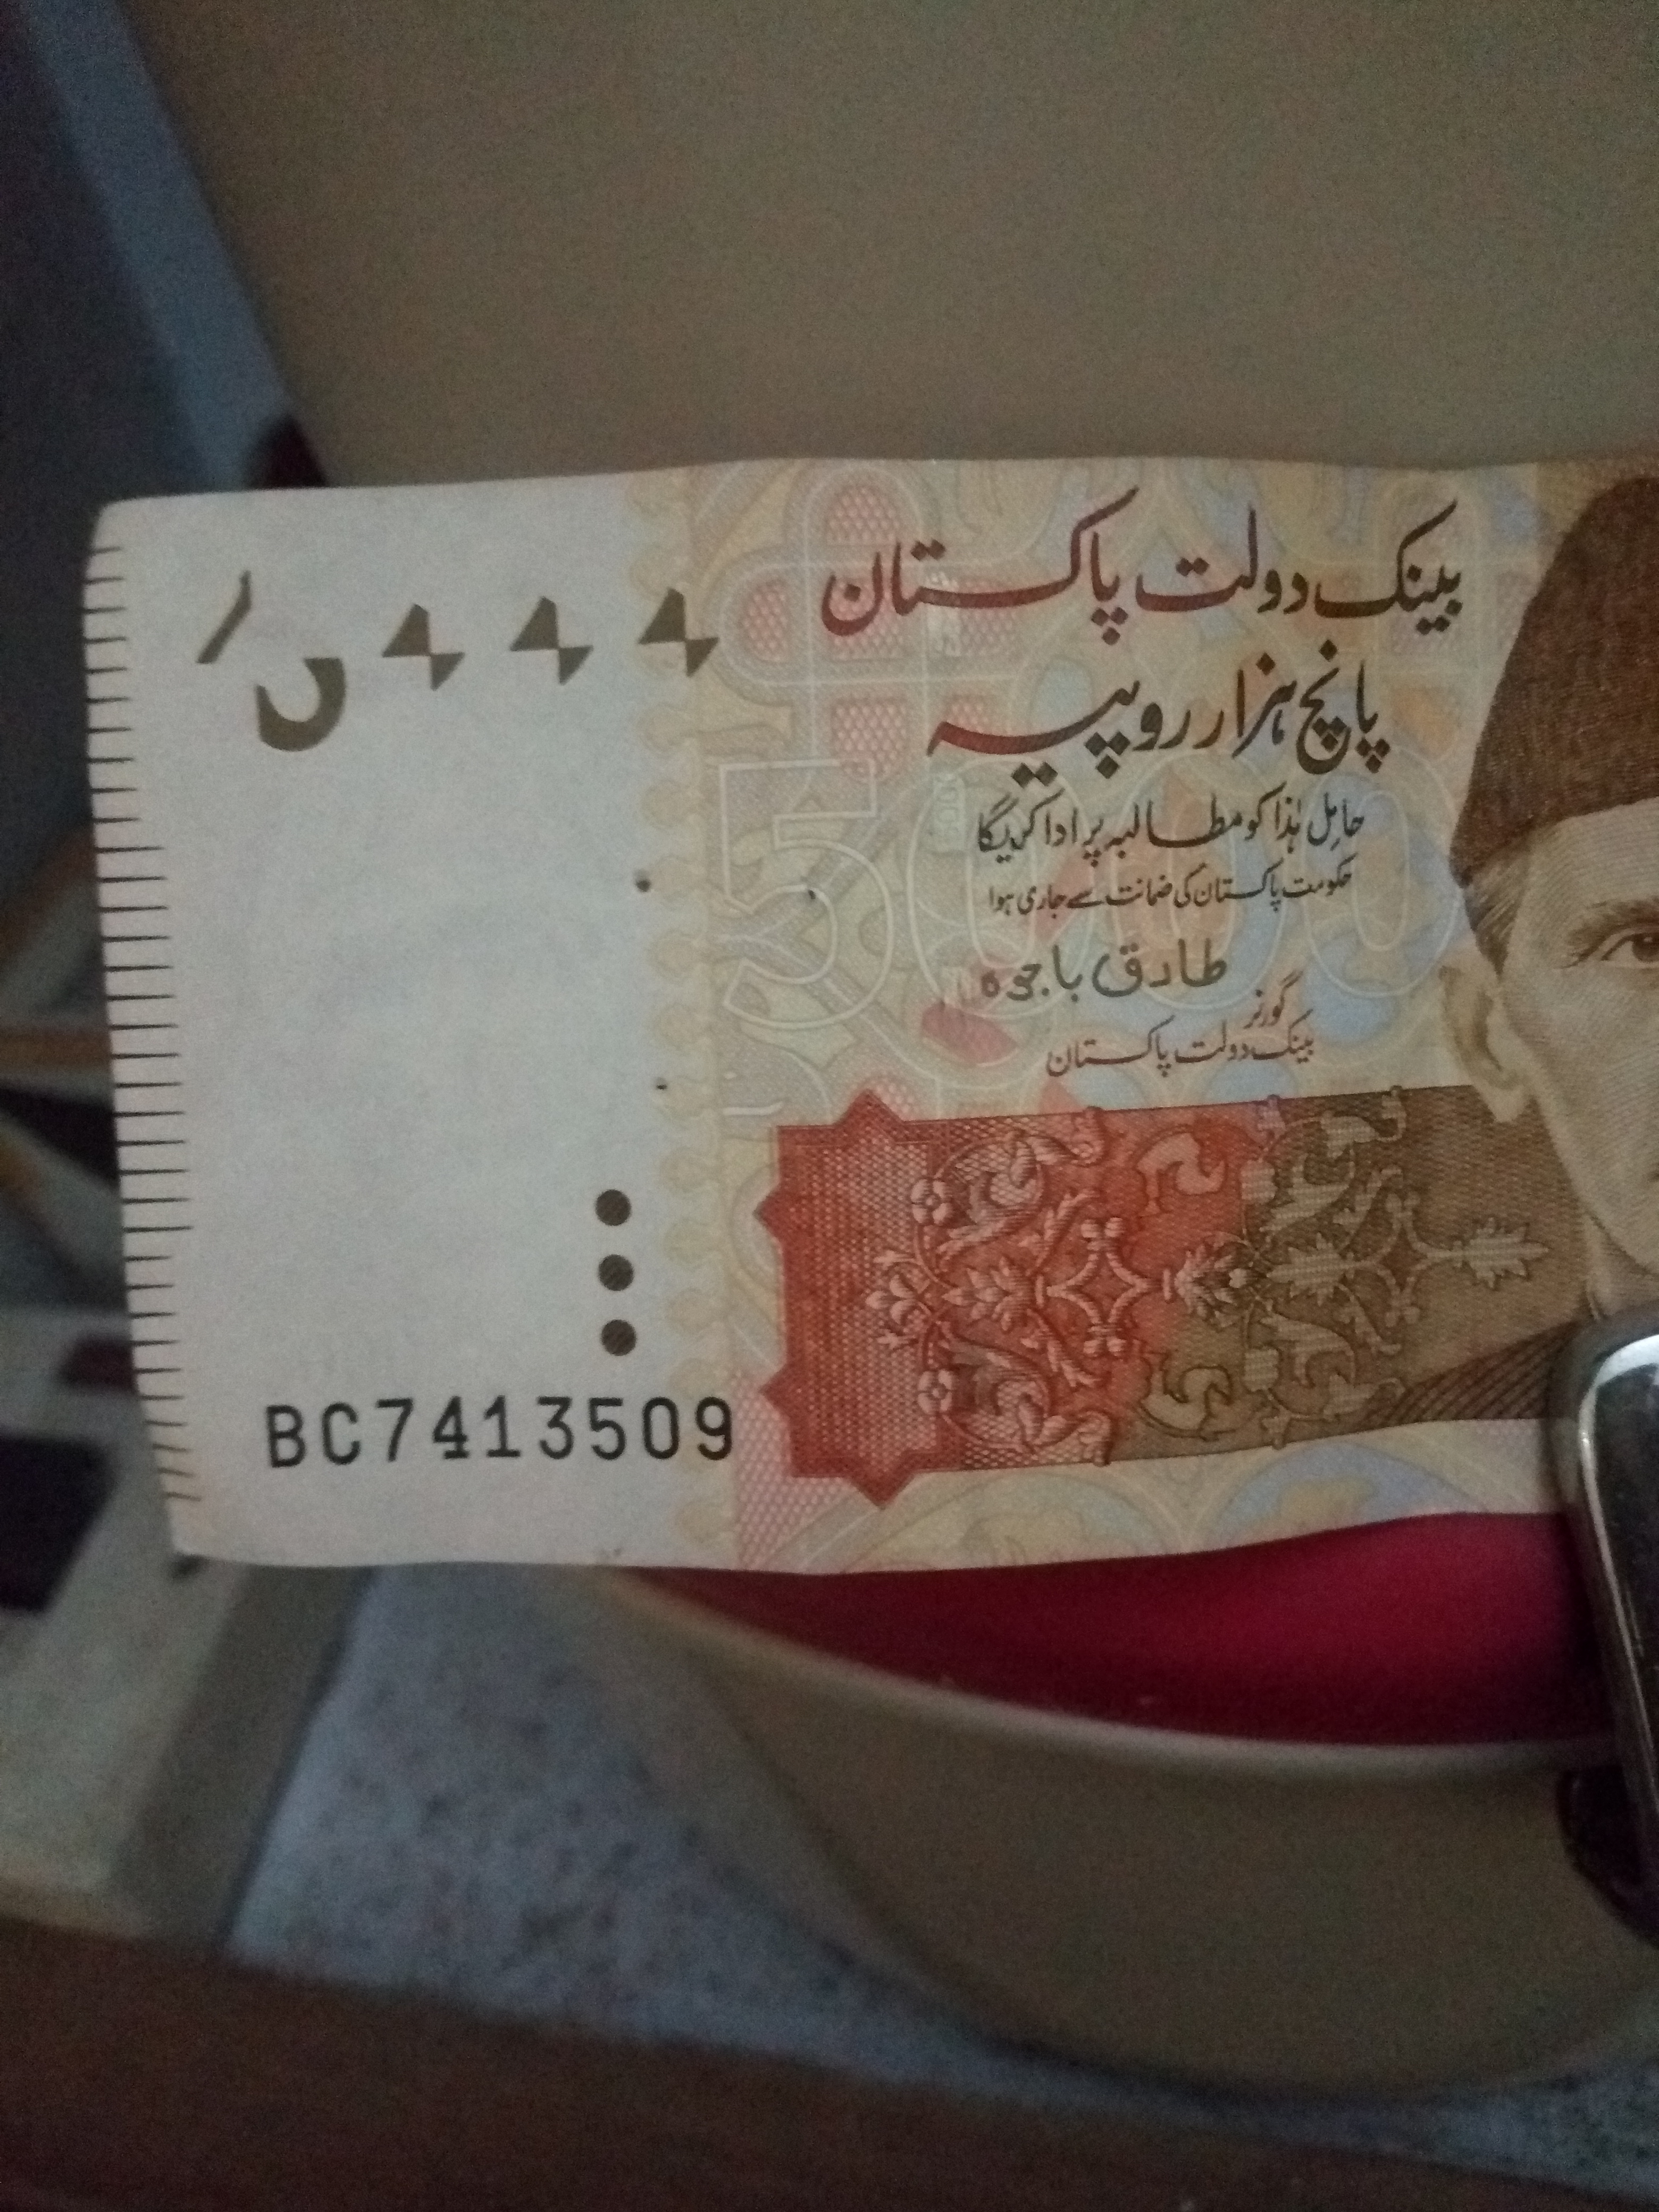5000 rupee: (77, 442, 1605, 1620)
